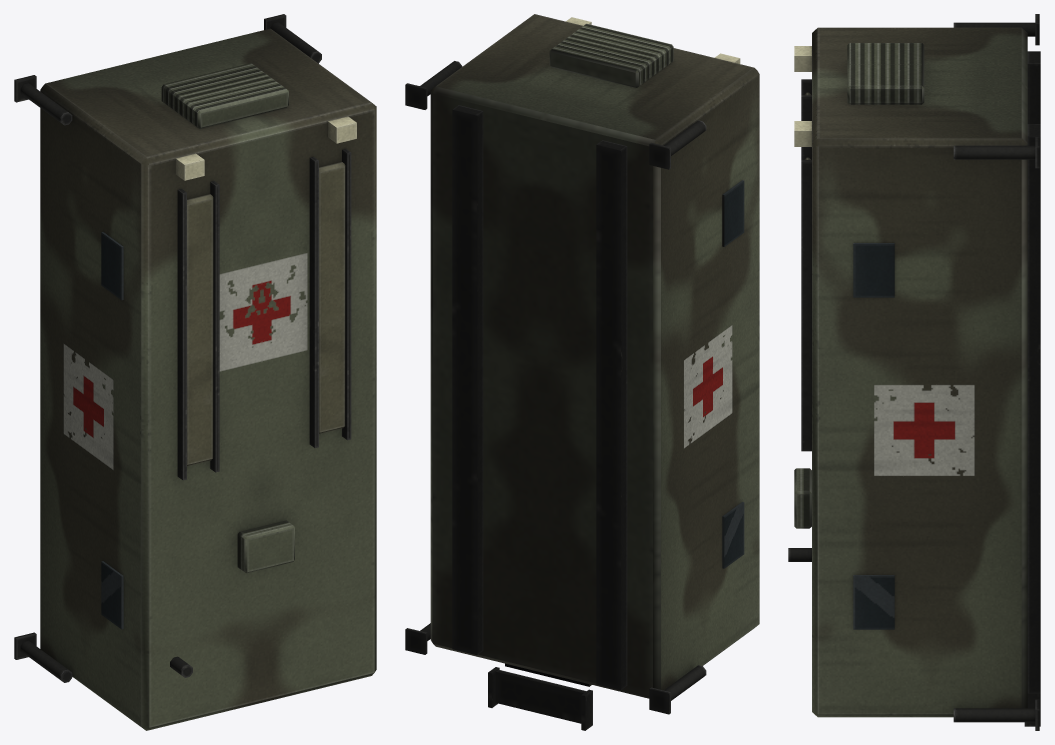
File: hemtt_medical_module_pbr.glb
3 views of the same model, side by side, from view 1: azimuth 30°, elevation 25°; view 2: azimuth 150°, elevation 25°; view 3: azimuth 270°, elevation 25° (orthographic). The views are drawn at different scales.
Parts seen in each view (by area): view 1: hemtt_medical_module_pbr; view 2: hemtt_medical_module_pbr; view 3: hemtt_medical_module_pbr.
Part boxes in pixels (x1,y1,x2,y2): hemtt_medical_module_pbr: (14, 14, 376, 730); hemtt_medical_module_pbr: (405, 14, 759, 730); hemtt_medical_module_pbr: (788, 14, 1040, 730).
Bounding box in the file's own units: 2.69 × 6.01 × 2.16.
Materials: 1 (1 with a texture image).
